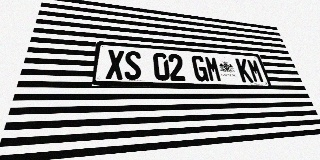0: (153, 52, 170, 81)
2: (168, 53, 186, 81)
G: (191, 55, 209, 82)
K: (235, 58, 254, 82)
M: (204, 56, 223, 82), (246, 59, 265, 83)
S: (124, 51, 142, 80)
X: (106, 49, 124, 80)
